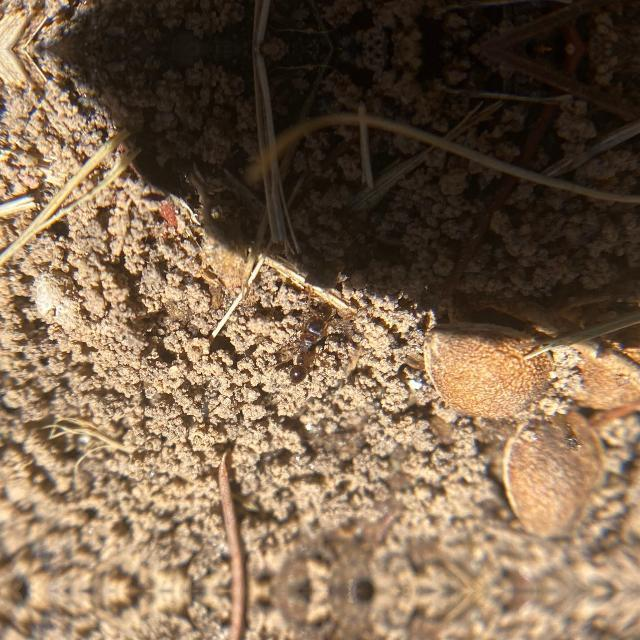Tetramorium: (276, 300, 334, 378)
